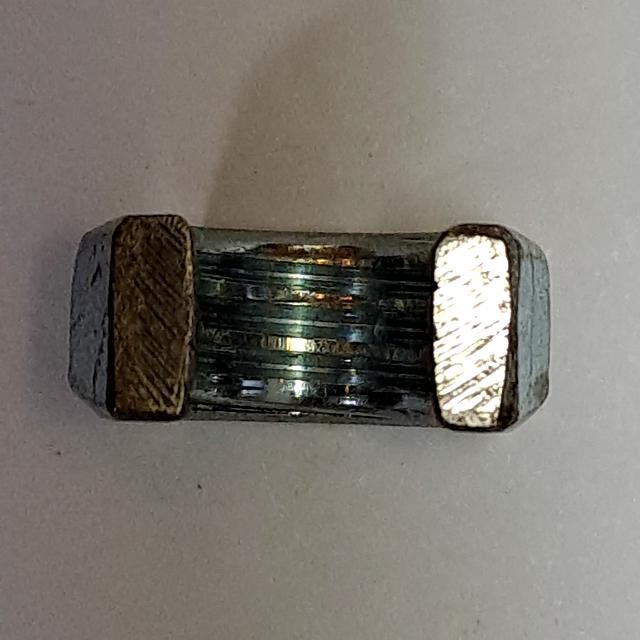Side-Fracture: (27, 194, 580, 450)
